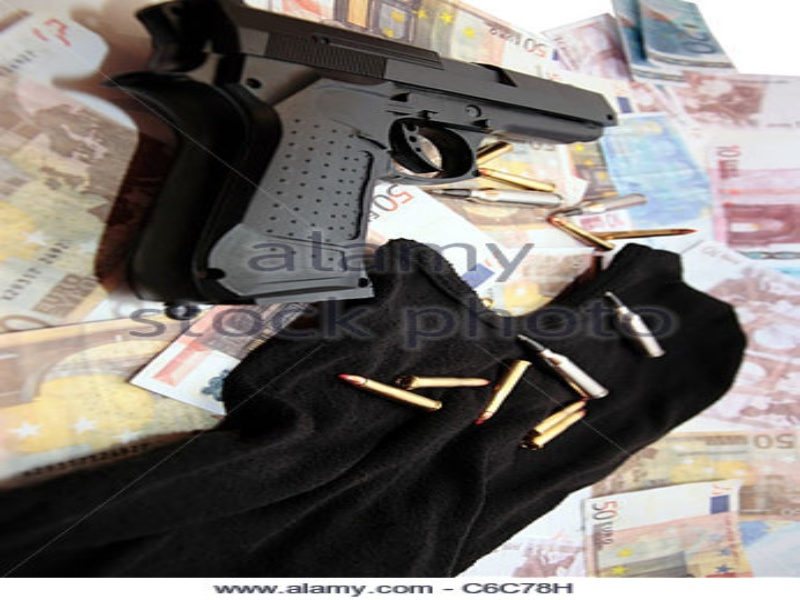gun: (126, 1, 620, 313)
